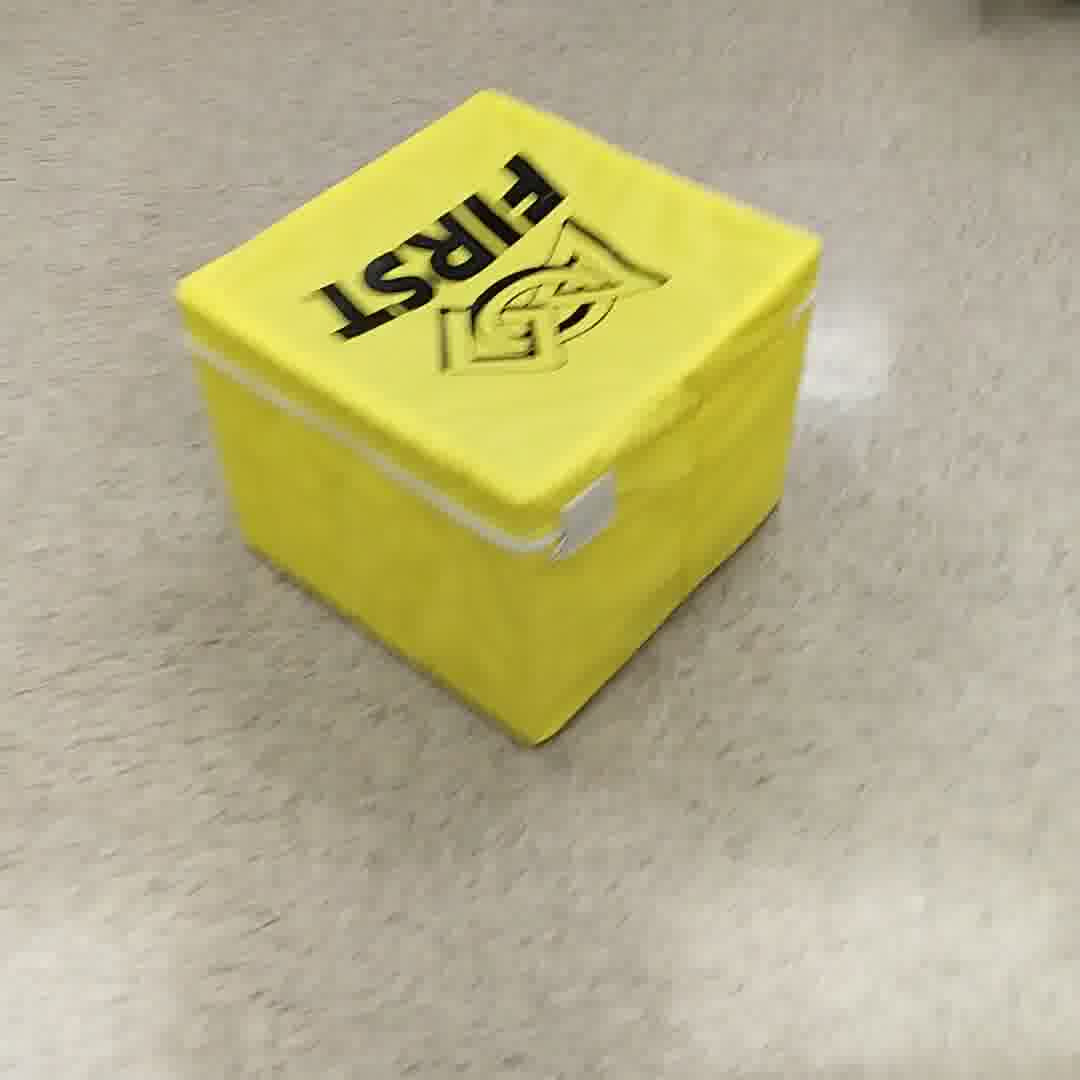box: (165, 89, 837, 755)
